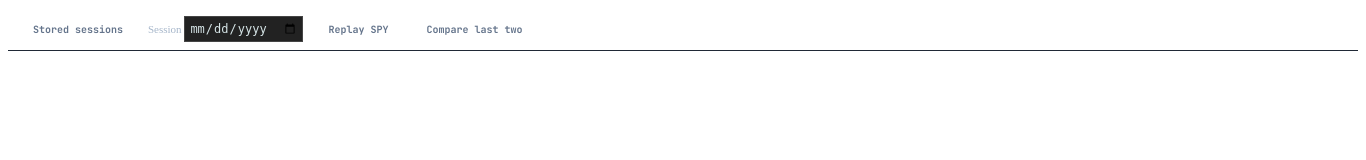
Test: replay strip loads manifest
The width and height of the screenshot is (1366, 160).
What coordinates should you click on to do the following:
click the button with test id "solstice-replay-load"
I would click on:
 (358, 29)
Its box is [315, 18, 401, 40].
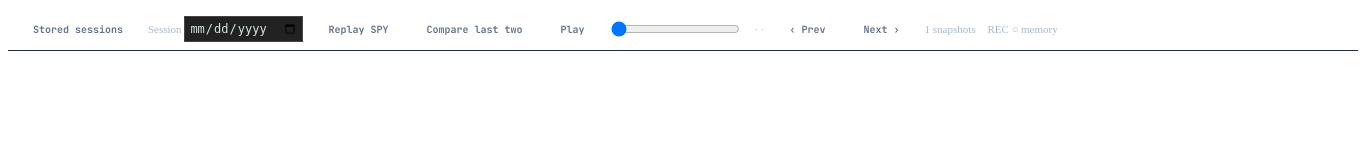
Expected: the text with test id "solstice-replay-count" reads "1 snapshots", [924, 21, 976, 37]
What coordinates should you click on to do the following:
click the button with test id "solstice-compare-btn"
I would click on:
 (474, 29)
Its box is [413, 18, 535, 40].
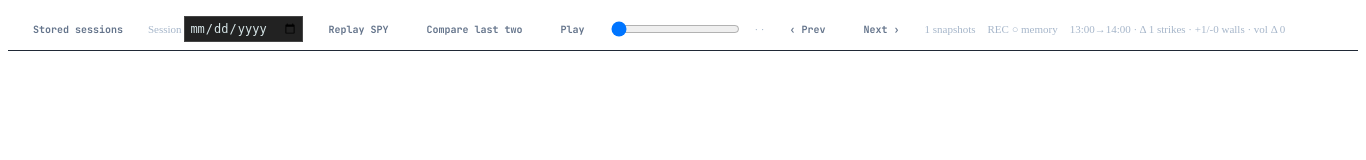
Expected: the text with test id "solstice-compare-result" shows "1 strikes", [1070, 21, 1285, 37]
Expected: the text with test id "solstice-compare-result" shows "13:00→14:00", [1070, 21, 1285, 37]
